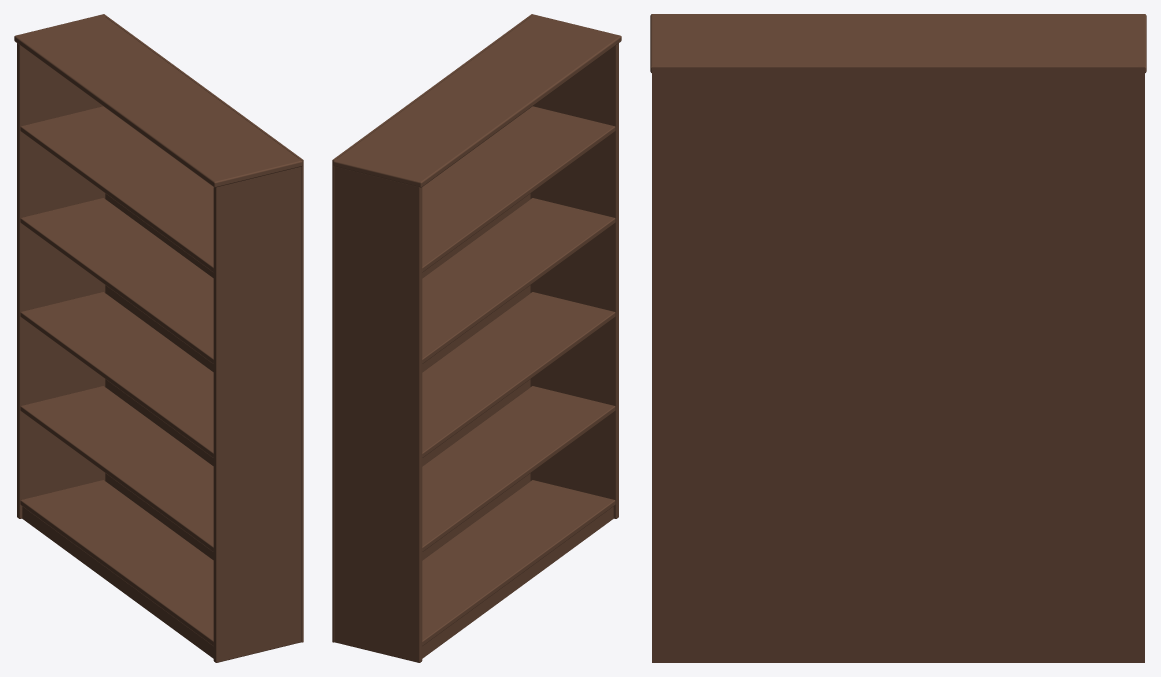
The model's file is shelves.fbx.
The picture shows the model from 3 angles, left to right: view 1: azimuth 30°, elevation 25°; view 2: azimuth 150°, elevation 25°; view 3: azimuth 270°, elevation 25°; orthographic projection. The views are drawn at different scales.
Parts seen in each view (by area): view 1: shelves; view 2: shelves; view 3: shelves.
Boxes of the visible parts, box(x1,y1,x2,y2) form: shelves: box(14, 14, 303, 662); shelves: box(332, 14, 621, 662); shelves: box(650, 14, 1146, 662).
Size of the model in its own units: 0.39 by 2 by 1.51.
